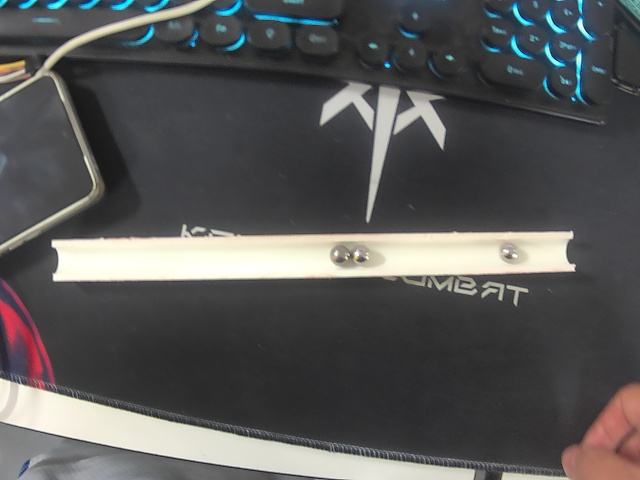steelball: (498, 242, 520, 265), (330, 245, 350, 266), (352, 244, 371, 264)
